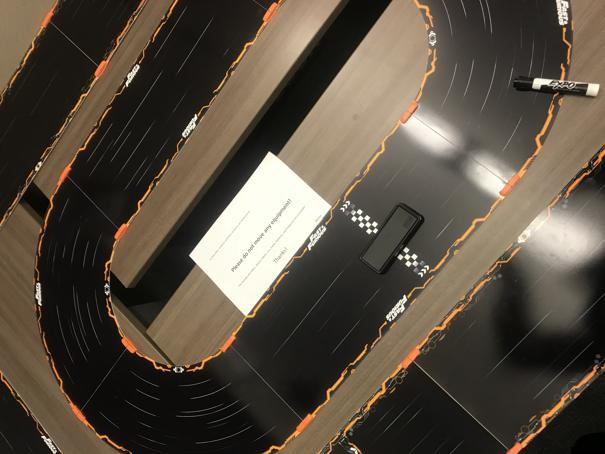Finish Line: (337, 198, 430, 279)
